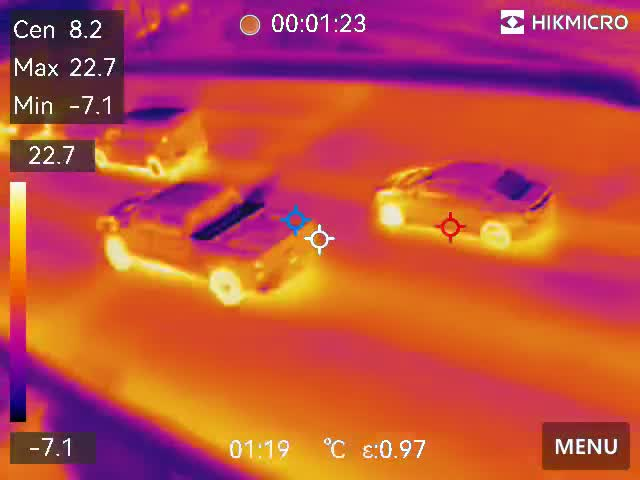lightTruck: (88, 183, 336, 312)
smallCar: (374, 160, 561, 251), (84, 107, 214, 181)
